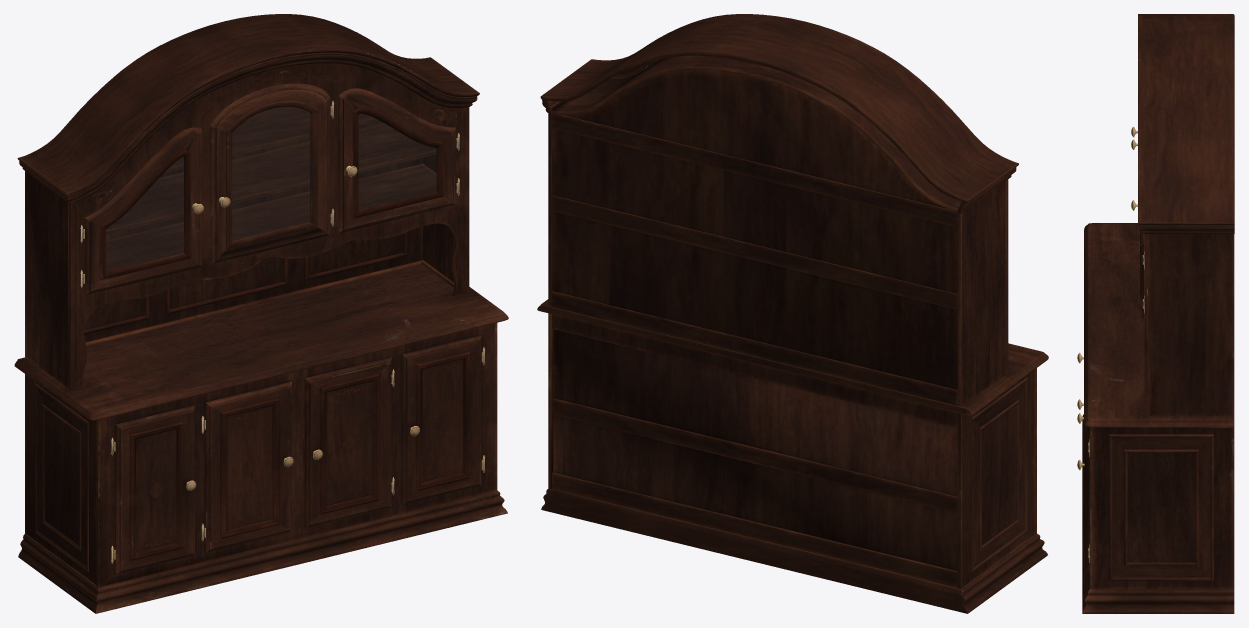
Rendered from vintage_cabinet_01.glb.
3 renders of one model, left to right at view 1: azimuth 30°, elevation 25°; view 2: azimuth 150°, elevation 25°; view 3: azimuth 270°, elevation 25°, orthographic. The views are drawn at different scales.
Visible parts, largest first — view 1: vintage_cabinet_01_body; view 2: vintage_cabinet_01_body; view 3: vintage_cabinet_01_body.
Boxes of the visible parts, x1,y1,x2,y2 form: vintage_cabinet_01_body: [14, 14, 508, 613]; vintage_cabinet_01_body: [537, 14, 1048, 613]; vintage_cabinet_01_body: [1077, 14, 1234, 613].
Bounding box in the file's own units: 2.02 × 2.23 × 0.6698.
Materials: 3 (2 with a texture image).
